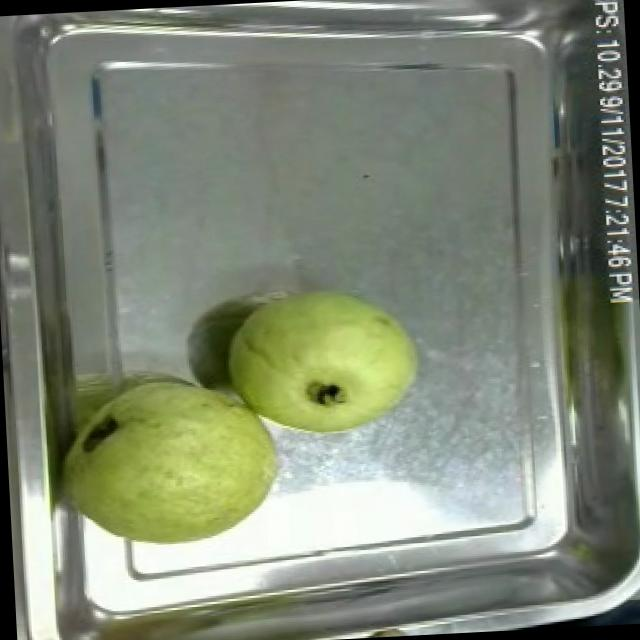Fruit: (52, 360, 292, 564), (212, 276, 434, 452)
